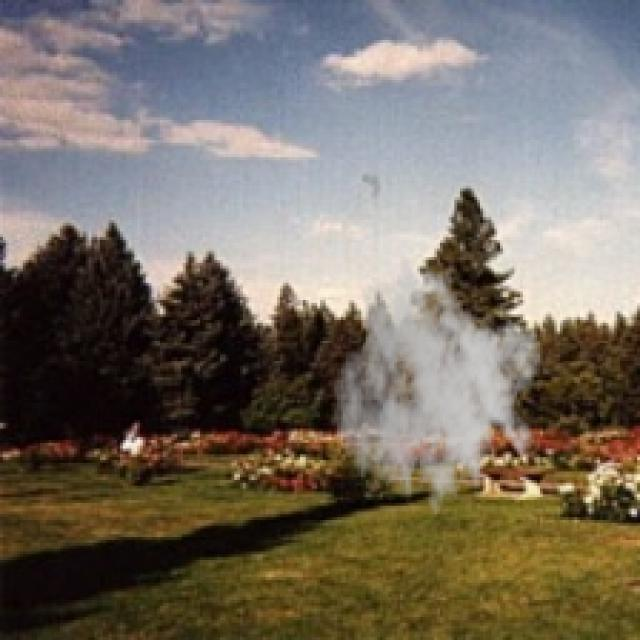Smoke: (331, 257, 543, 532)
